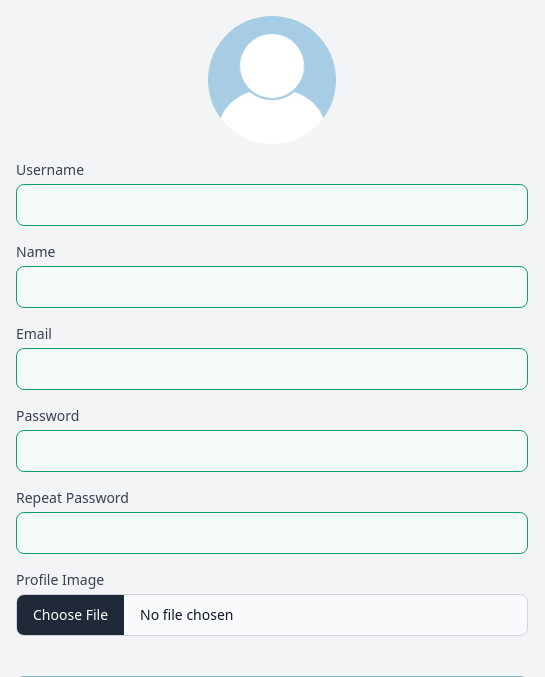
it: UserSignupForm › Input interactions › displays validation error message given username with blank
Step 1. Type "John Doe" into the field labelled "Username" → point(272, 205), box [16,184,528,226]
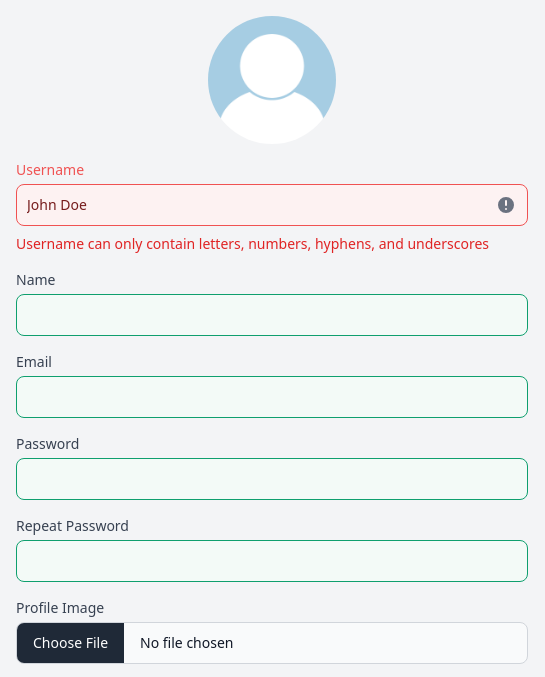
Expected: the text "Username can only contain letters, numbers, hyphens, and underscores" is shown, [16,234,528,254]
